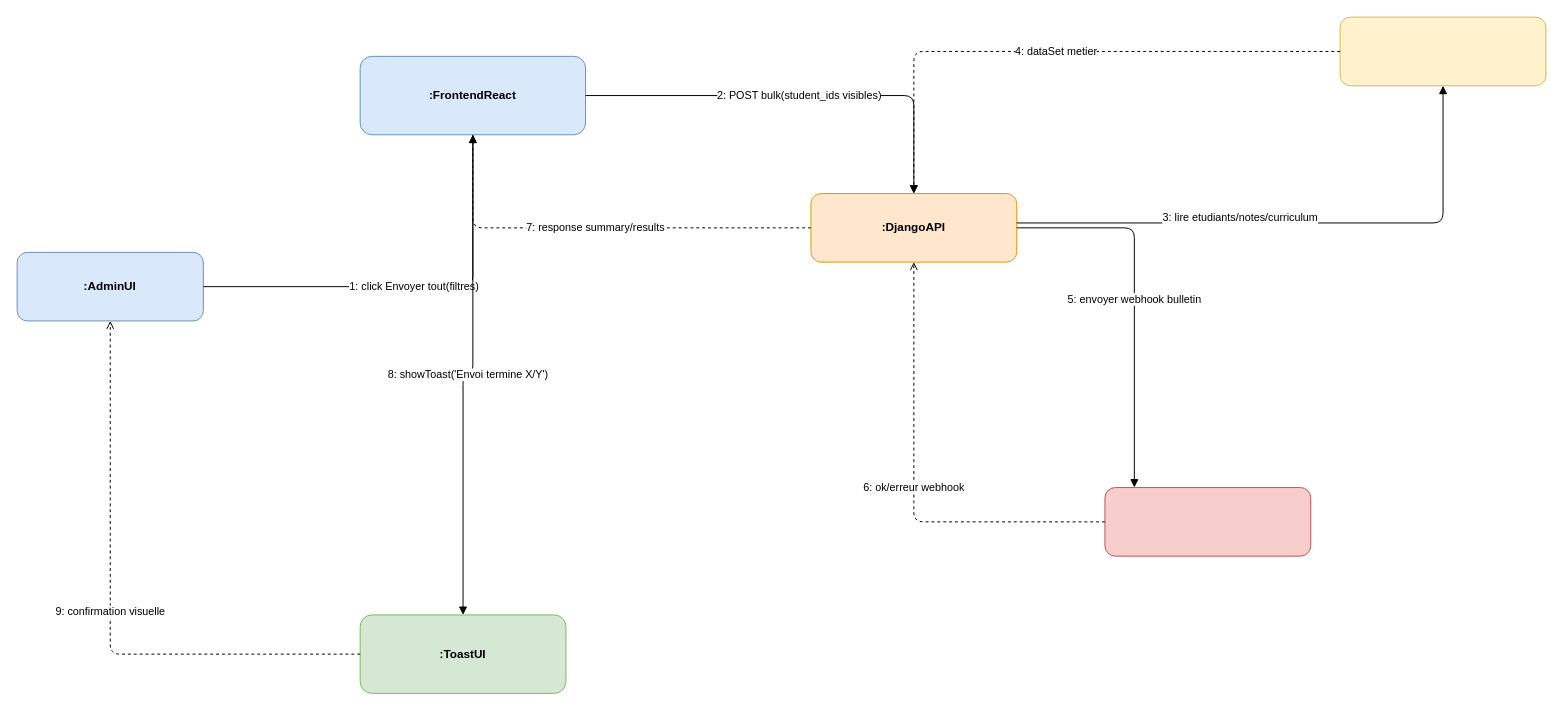
Some shapes in this 1563 by 711 pixel diagram are drawn without their labels. The shapes that lost their labels are listed below. From the top down, each one's box as (x1, y1, x2, y2) in pixels, then its label:
(1339, 16, 1546, 86): :BaseMySQL
(1104, 487, 1311, 556): :ServiceN8N
